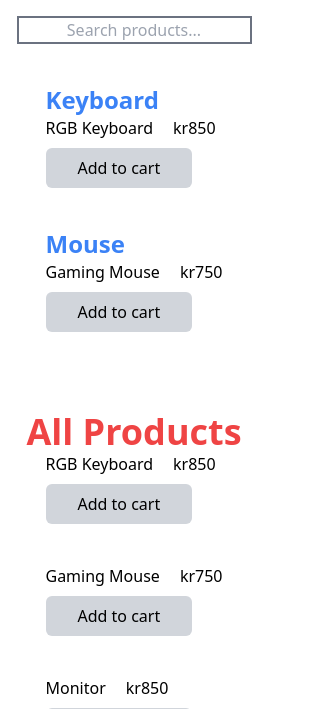
Scenario: Home Page › shows only search results when search term is not empty
Type "mo" into the search field with placeholder "Search products...". click: x=134, y=30
box: [16,16,252,44]
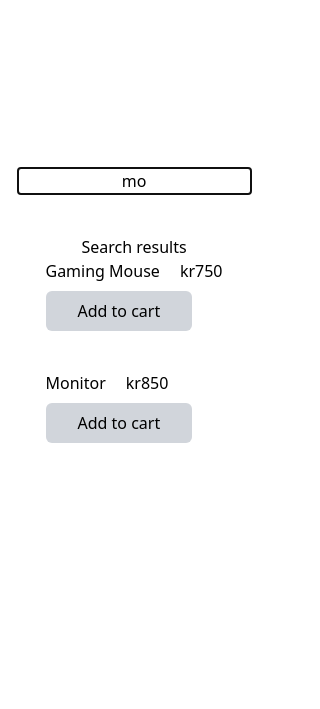
Expected: the list named "search results" is shown, [46,259,222,483]
Expected: the number of list items is 2, [46,259,222,331]; [46,372,192,443]
Expected: the heading "Products" is gone
